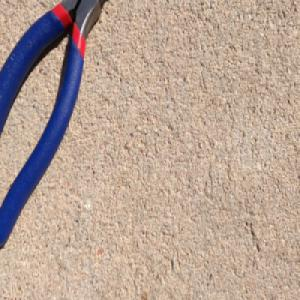Pliers: (0, 0, 109, 248)
